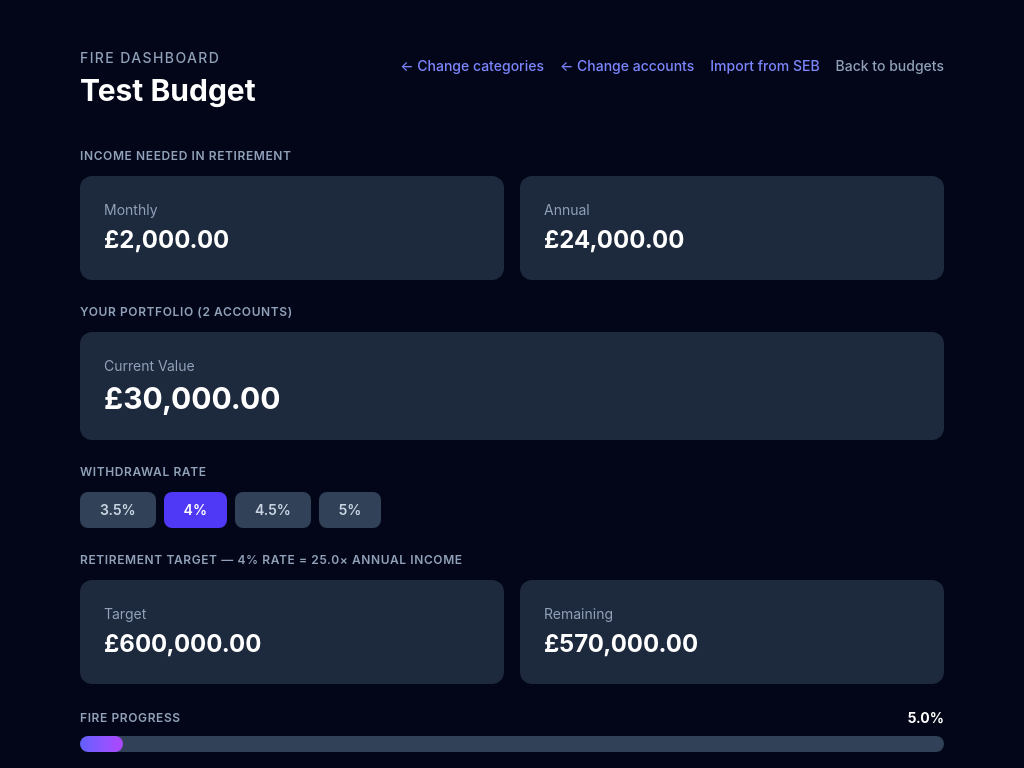
it: RetirementDashboard › updates retirement target when withdrawal rate changes
Click the button "5%" at (350, 510), box [319,492,381,528]
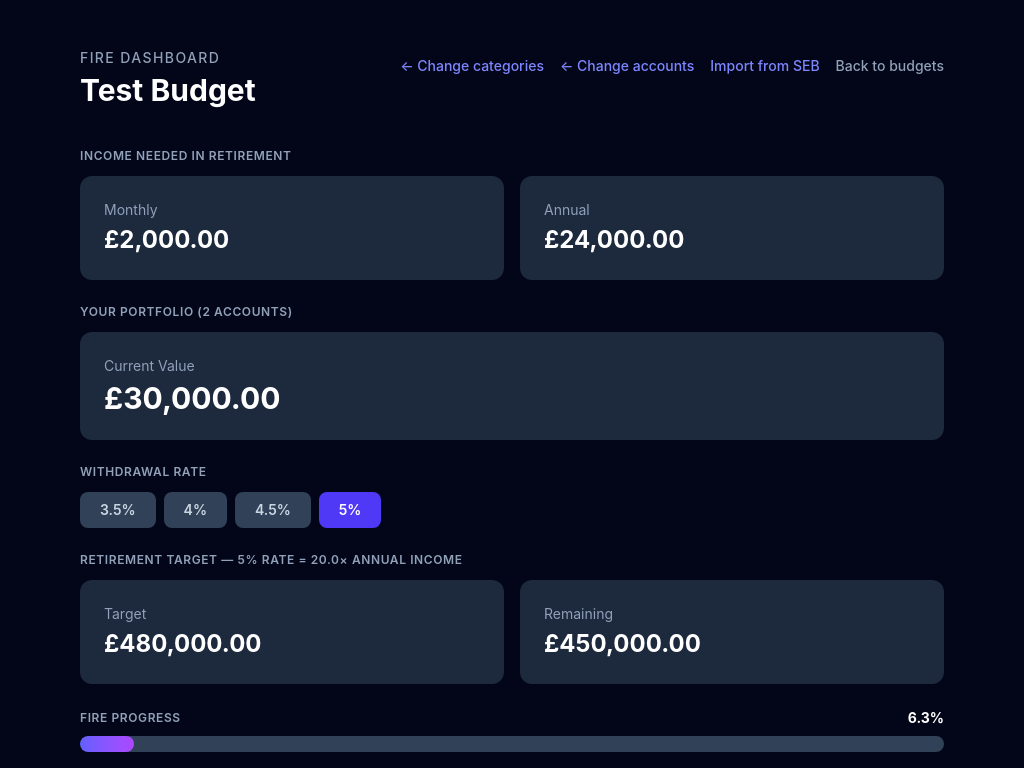
Check: the text "480,000" is shown, box [104,629,262,658]
